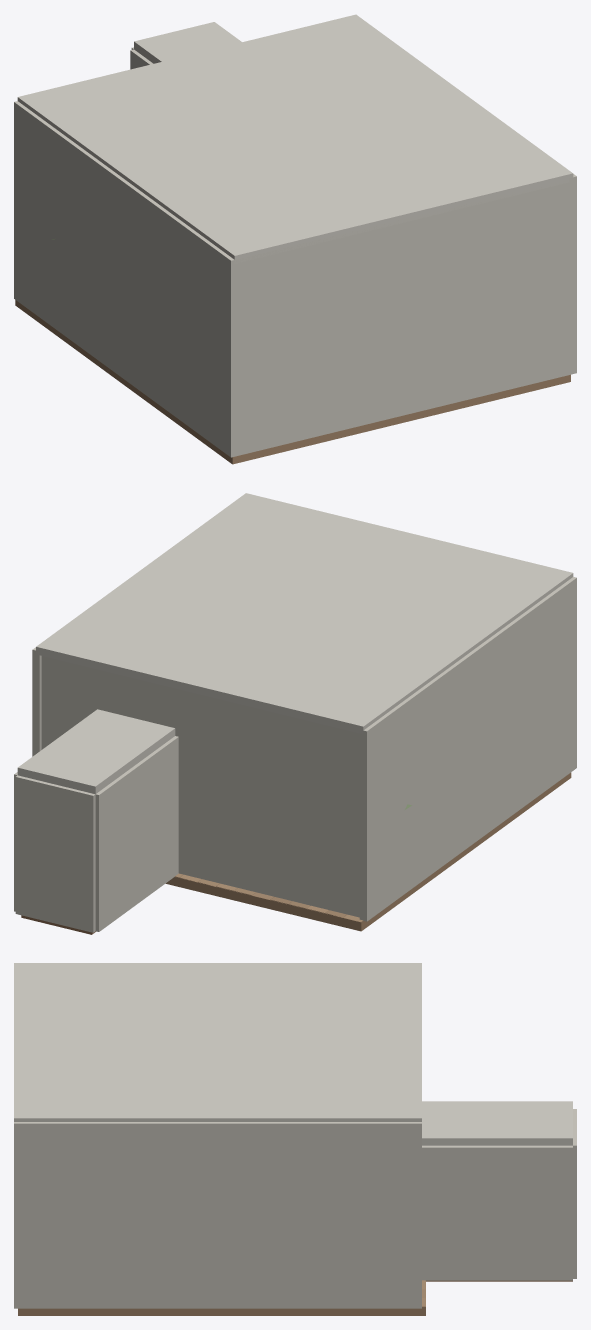
File: home.glb
3 views of the same model, one above another, from view 1: azimuth 30°, elevation 25°; view 2: azimuth 150°, elevation 25°; view 3: azimuth 270°, elevation 25° (orthographic). The views are drawn at different scales.
Parts seen in each view (by area): view 1: home part 0; view 2: home part 0; view 3: home part 0.
Part boxes in pixels (<box>): home part 0: <box>14,14,576,464</box>; home part 0: <box>14,493,576,934</box>; home part 0: <box>14,963,576,1315</box>.
Bounding box in the file's own units: 9.33 × 5.34 × 13.8.
